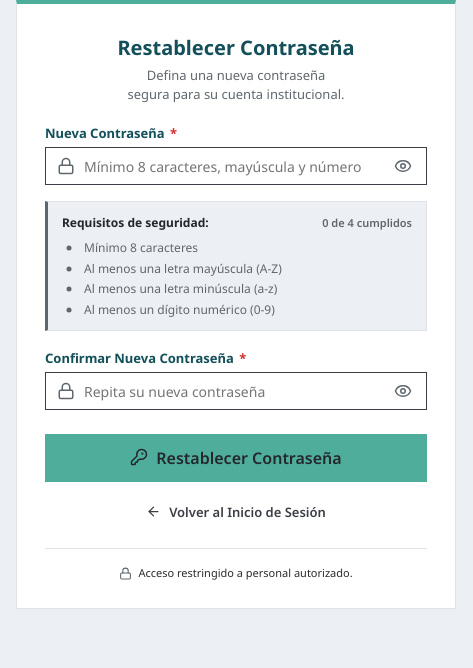
Test: RestablecerContrasenaForm (HU-65) › Cuando se provee token en la URL › debe validar que la contraseña contenga al menos una mayúscula
This screenshot has width=473, height=668.
In the password field labelled "Nueva Contraseña *": x=236, y=166 x1=45 y1=147 x2=427 y2=185, type "password123"
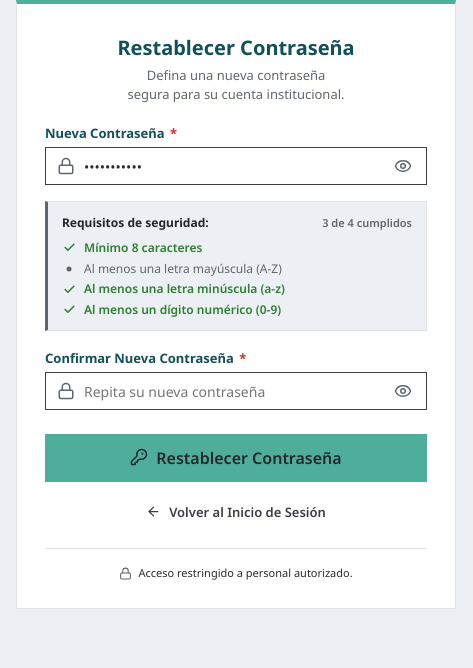
Click the button "Restablecer Contraseña": x=236, y=458 x1=45 y1=434 x2=427 y2=482
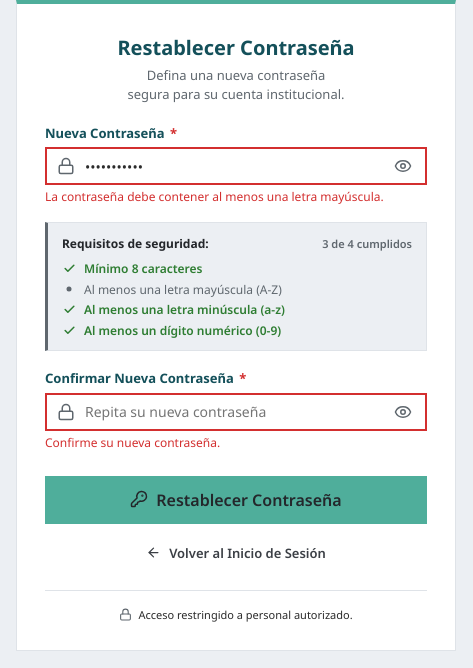
Expected: the text "La contraseña debe contener al menos una letra mayúscula." is shown, x1=45 y1=189 x2=427 y2=206
